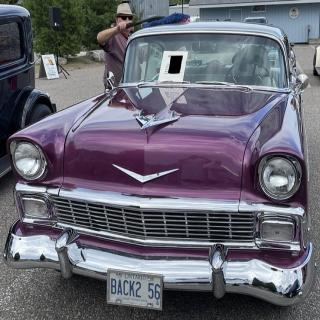license: (107, 270, 165, 313)
